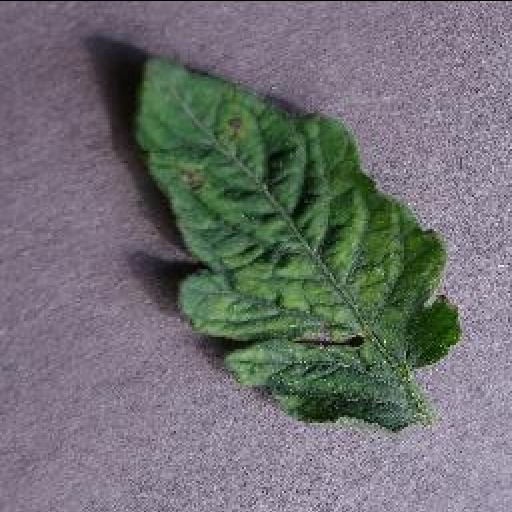Mosaic Virus: (127, 56, 461, 430)
